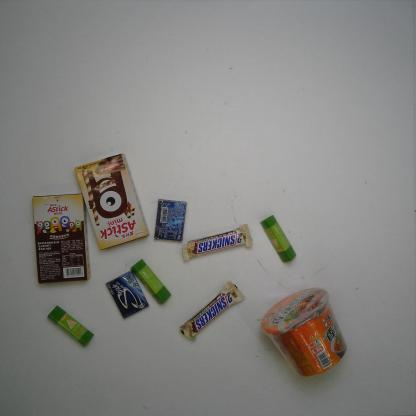Chocolate: (179, 280, 247, 341), (181, 224, 252, 264)
Dessert: (73, 152, 151, 252), (31, 192, 92, 285)
Gum: (105, 270, 150, 320), (152, 198, 188, 242)
Instant Noodles: (260, 287, 348, 379)
Stationery: (47, 304, 95, 348), (129, 258, 172, 305), (259, 214, 297, 263)
